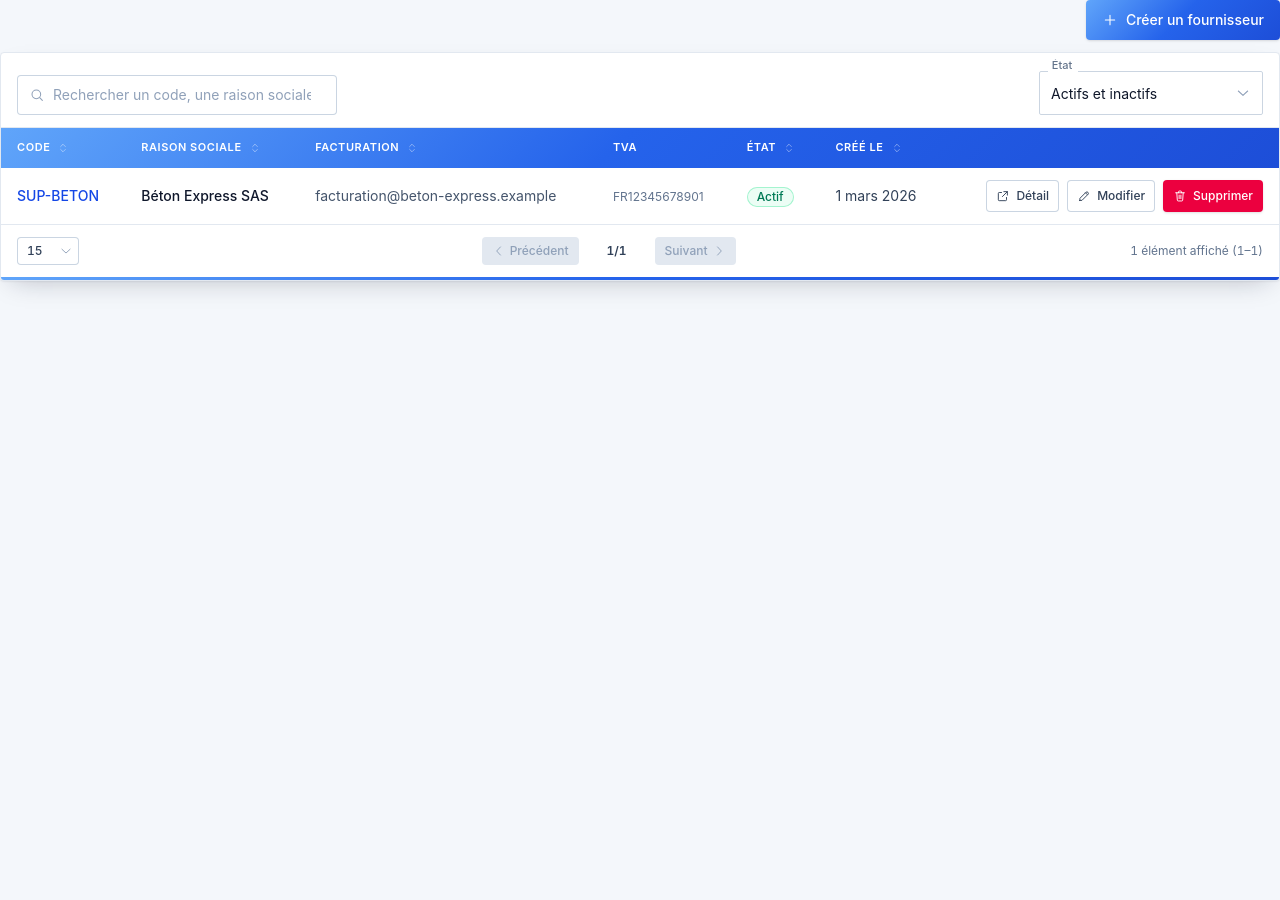
Scenario: SupplierList › explique le refus quand la fiche est encore citée par un document
Click the button "Supprimer" at (1213, 196), box x1=1163 y1=180 x2=1263 y2=212
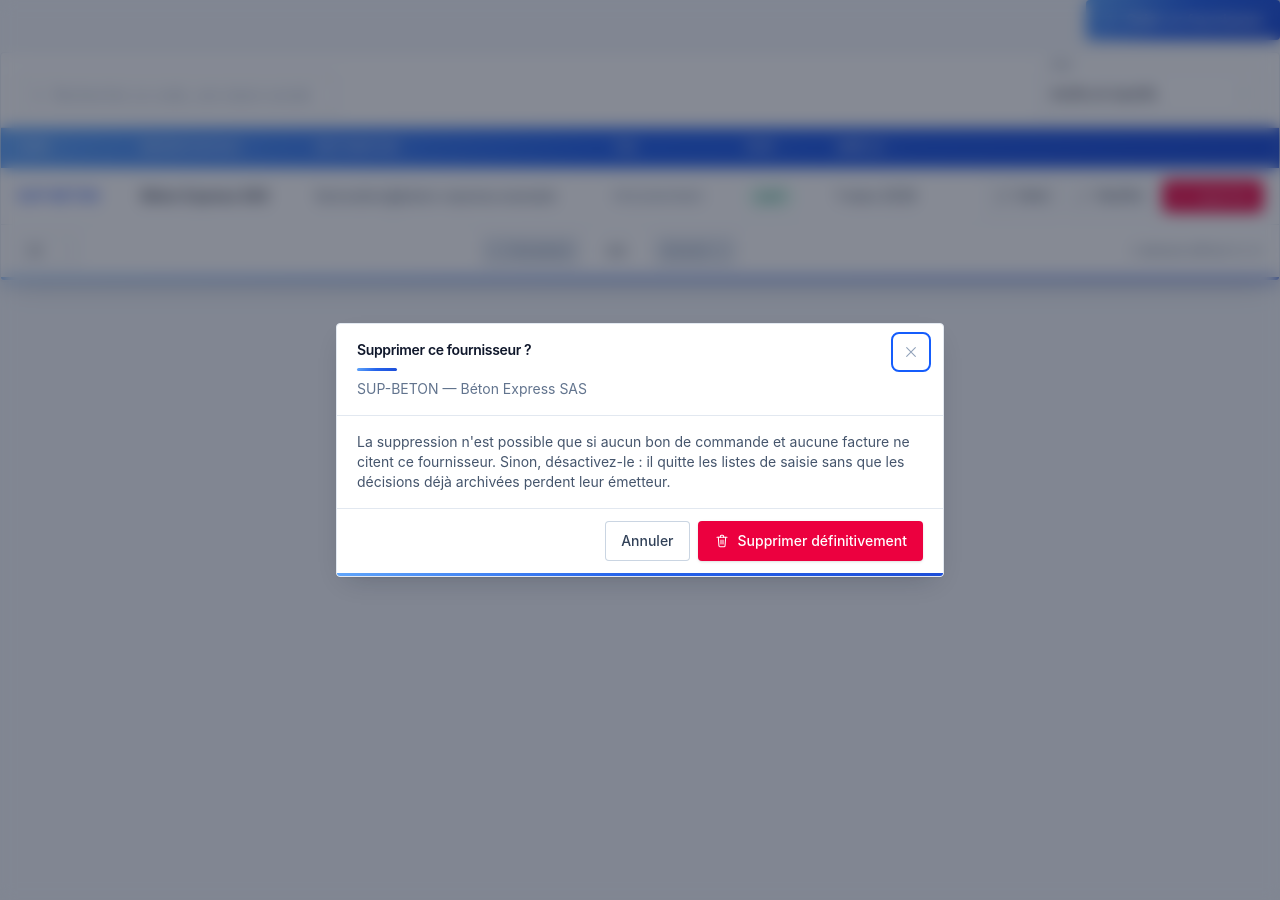
Click the button "Supprimer définitivement" at (810, 541), box x1=698 y1=521 x2=923 y2=561
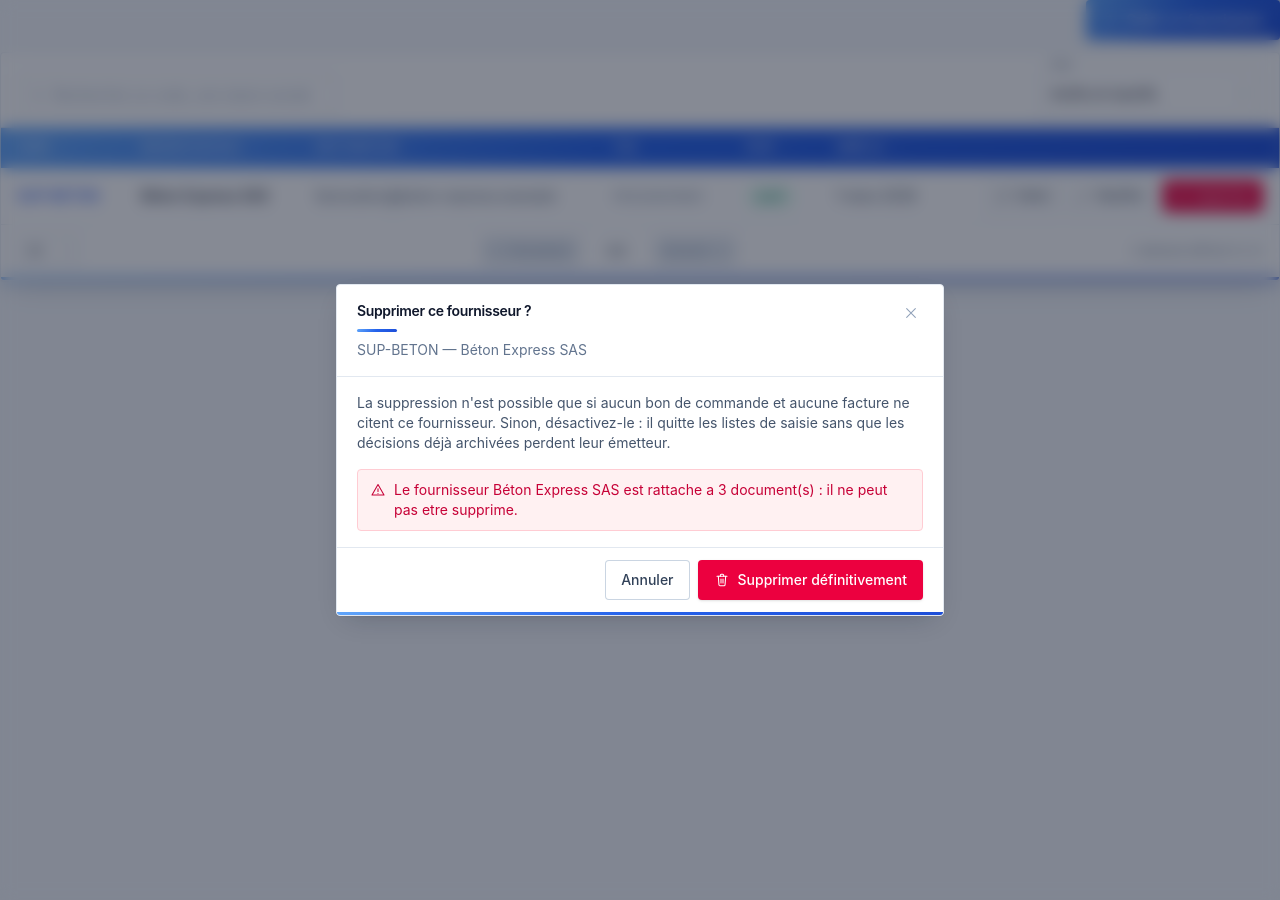
Now the text "désactivez-le" is shown, box x1=357 y1=394 x2=910 y2=451
Now the message shows "rattache a 3 document", box x1=394 y1=481 x2=887 y2=518
